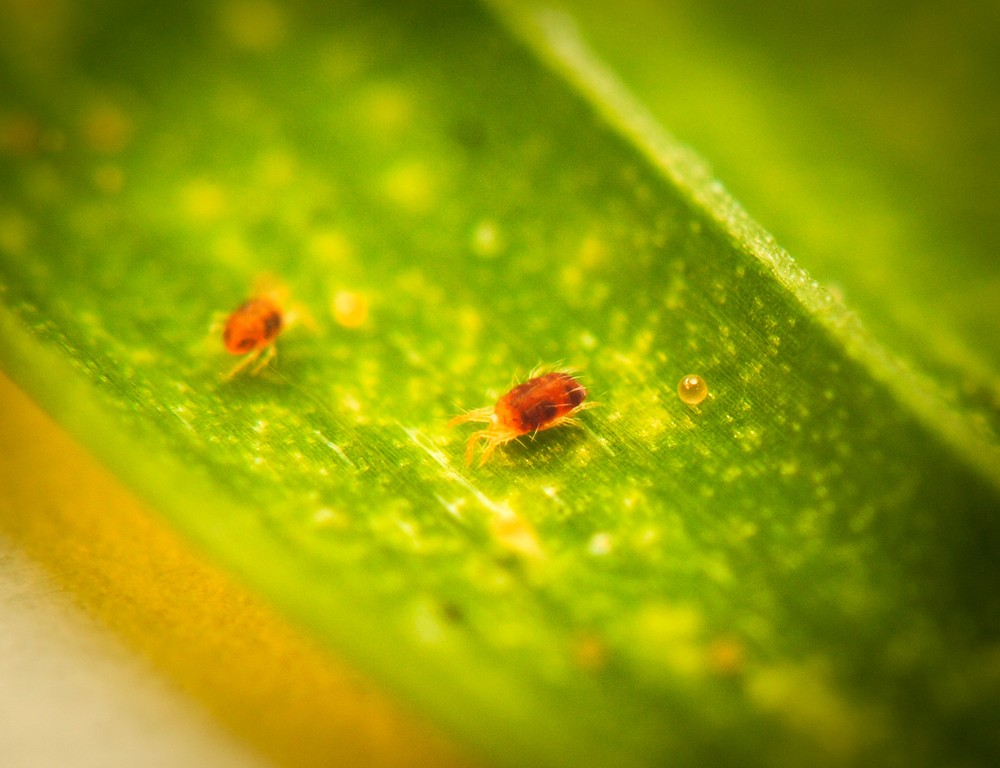Aracnido Rojo: (428, 343, 621, 475), (188, 248, 347, 407)
